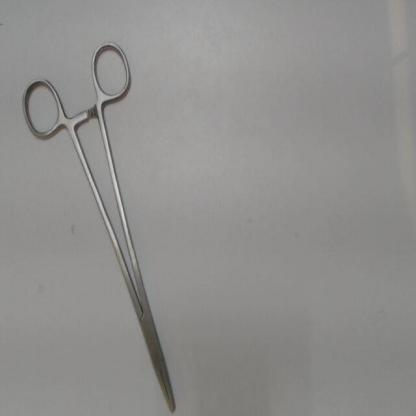8 Mayo Needle Holder: (13, 36, 186, 416)
